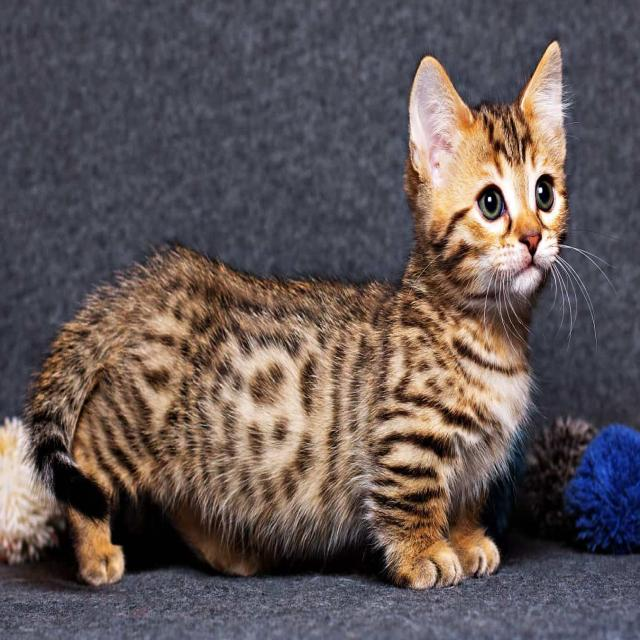Munchkin: (26, 34, 574, 596)
